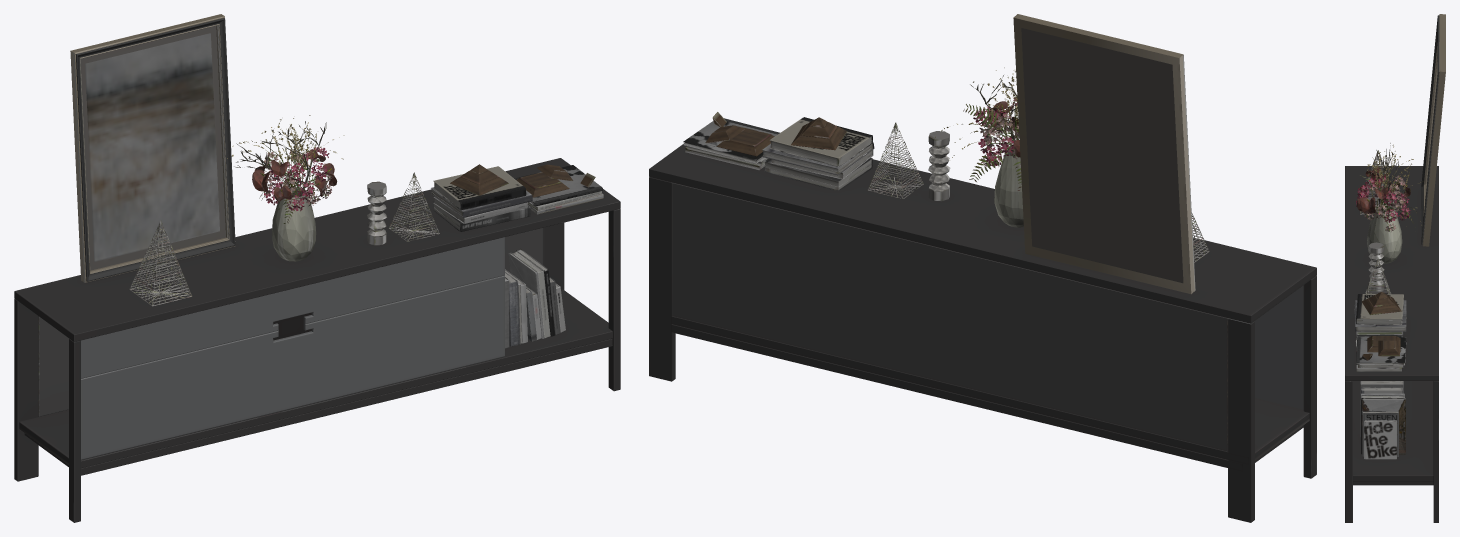
Rendered from Cabinet_Shelf_Desk_8271423a-cb03-4186-a475-1817bd9af3fc_3.glb.
3 renders of one model, left to right at view 1: azimuth 30°, elevation 25°; view 2: azimuth 150°, elevation 25°; view 3: azimuth 270°, elevation 25°, orthographic. The views are drawn at different scales.
Parts seen in each view (by area): view 1: Cabinet_Shelf_Desk_8271423a-cb03-4186-a475-1817bd9af3fc_3.ob; view 2: Cabinet_Shelf_Desk_8271423a-cb03-4186-a475-1817bd9af3fc_3.ob; view 3: Cabinet_Shelf_Desk_8271423a-cb03-4186-a475-1817bd9af3fc_3.ob.
Boxes of the visible parts, <box> form: Cabinet_Shelf_Desk_8271423a-cb03-4186-a475-1817bd9af3fc_3.ob: <box>14,14,620,522</box>; Cabinet_Shelf_Desk_8271423a-cb03-4186-a475-1817bd9af3fc_3.ob: <box>649,14,1316,522</box>; Cabinet_Shelf_Desk_8271423a-cb03-4186-a475-1817bd9af3fc_3.ob: <box>1345,14,1445,522</box>.
Bounding box in the file's own units: 0.6037 × 0.4337 × 0.1229.
1 material, 1 textured.
